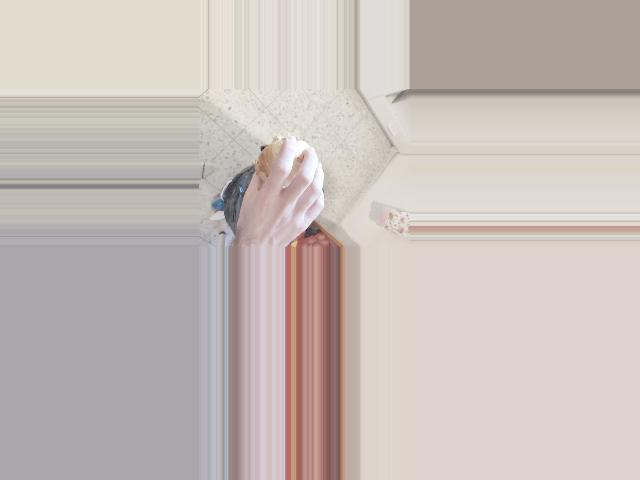onion: (257, 138, 315, 193)
